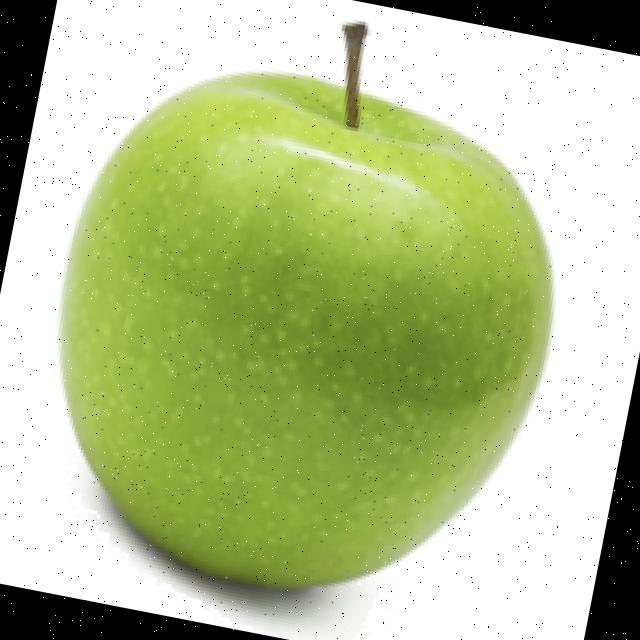apple: (55, 64, 560, 640)
